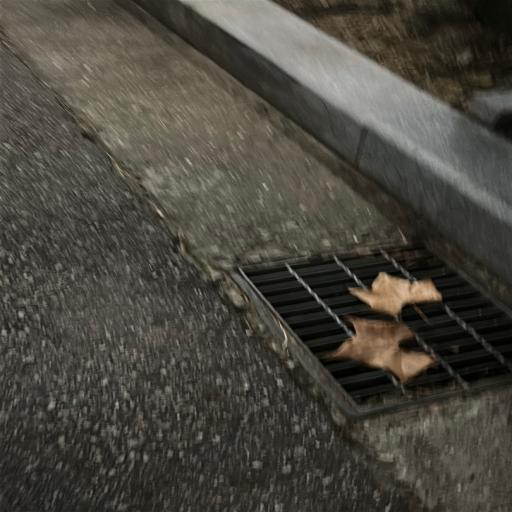debris: (331, 318, 432, 381), (355, 272, 442, 314)
drain: (239, 242, 511, 412)
